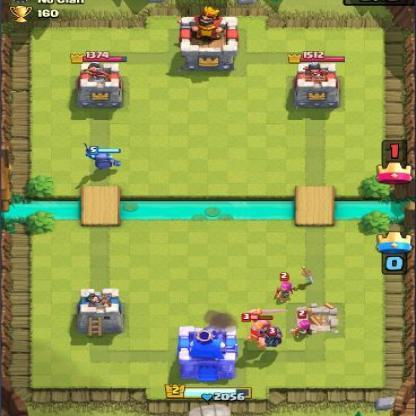ally_mini_pekka: (82, 140, 126, 172)
enemy_archer: (288, 308, 316, 342), (272, 272, 298, 306)
enemy_knight: (238, 307, 287, 348)
enemy_mini_pekka: (258, 322, 284, 350)
